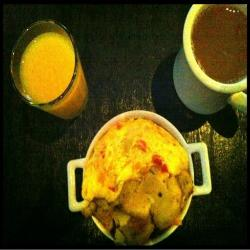omelette: (82, 121, 188, 191)
